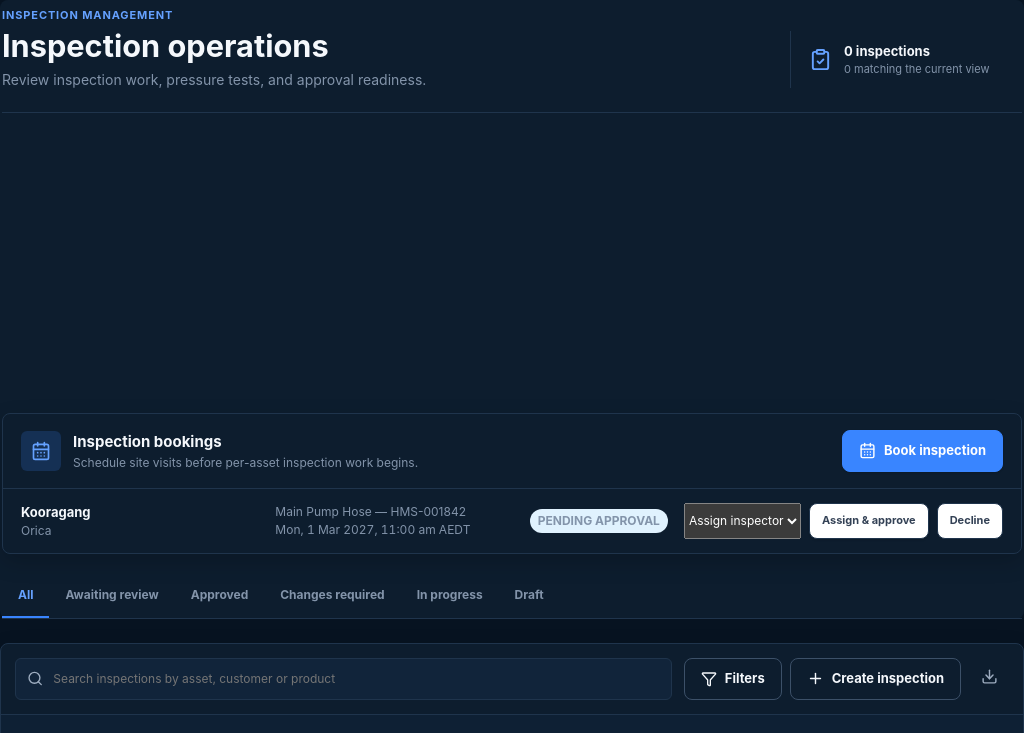
Scenario: A successful booking action is never reported as a failure because a later reload failed › approve booking: the approval stands and is shown when the inspection list reload fails
Check: the text "Kooragang" is shown, box [21,504,90,520]
Select "Ben Brook" in the dropdown named "Assign inspector for Kooragang": (742, 520) [684,502,801,538]
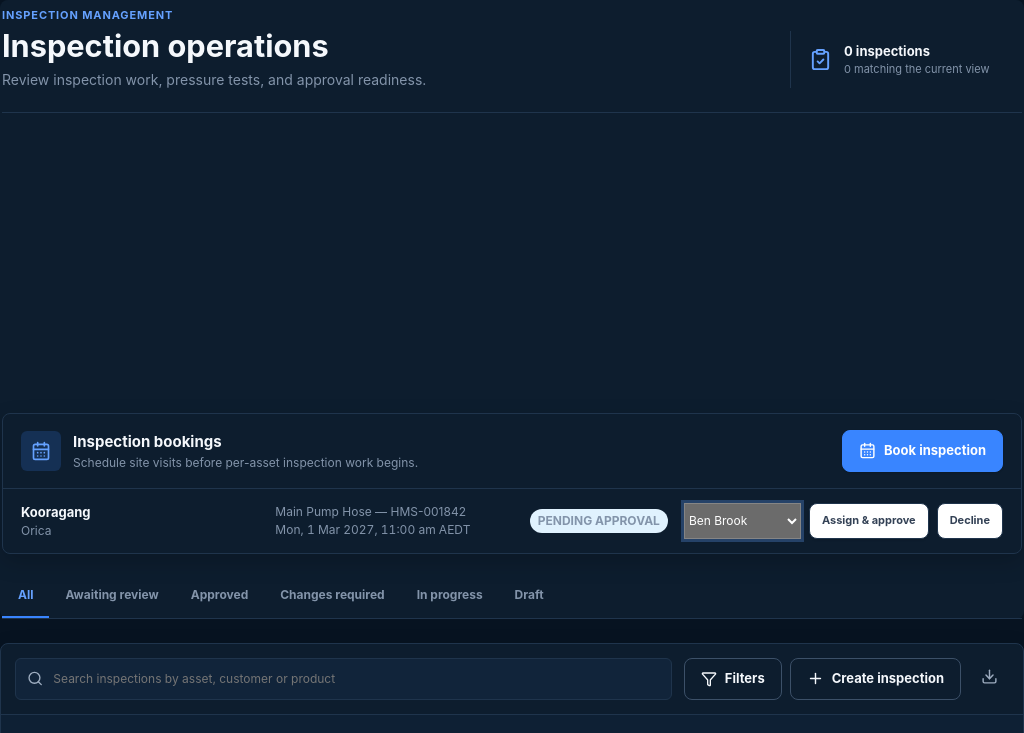
Click the button "Assign & approve": (869, 520) [809,502,929,538]
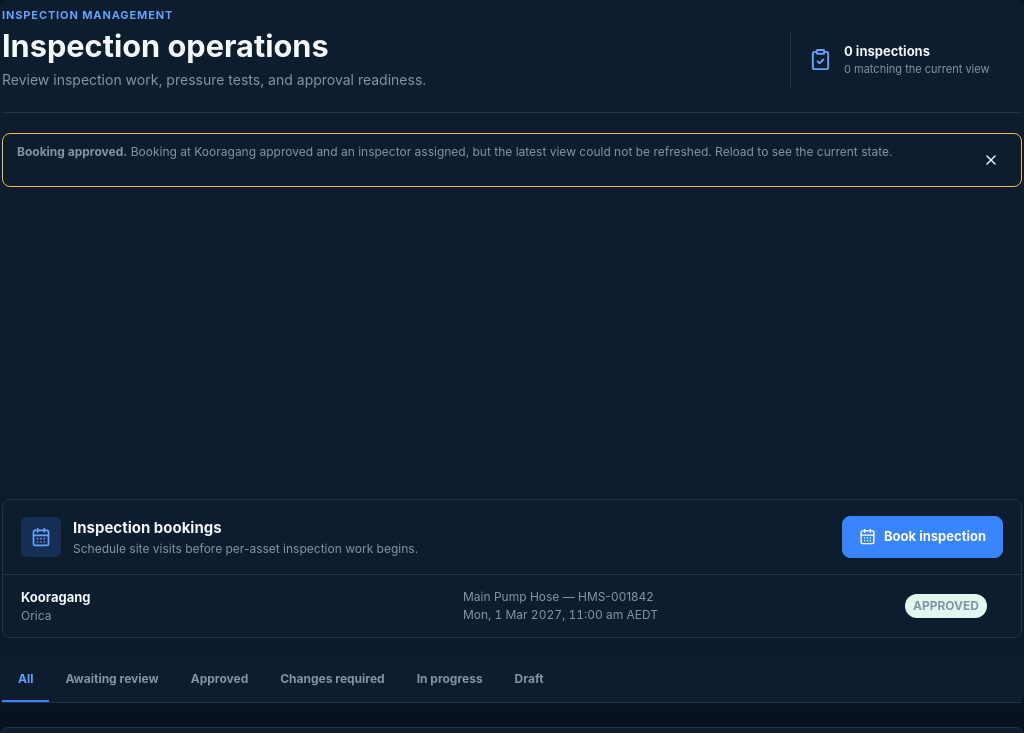
Check: the text "approved and an inspector assigned, but the latest view could not be refreshed" shows "Booking approved", box [17,144,123,158]
Check: the text "approved and an inspector assigned, but the latest view could not be refreshed" shows "Reload to see the current state.", box [131,144,892,158]
Check: the button "Assign & approve" is gone
